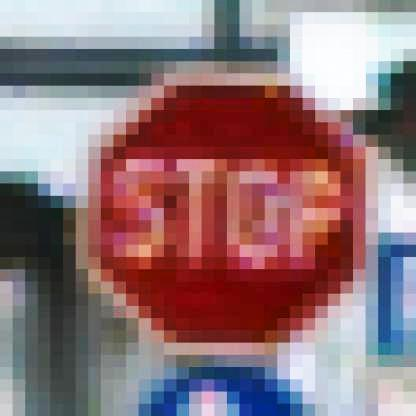Stop Sign: (77, 67, 374, 350)
